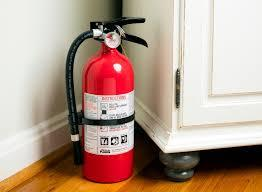floor-kept: (51, 12, 151, 185)
